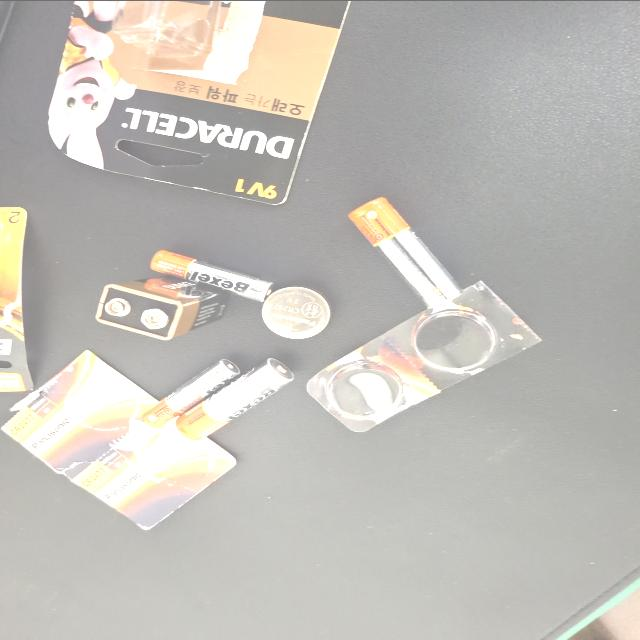9V: (368, 468, 452, 568)
AA: (263, 294, 407, 378), (476, 419, 585, 508)
AAA: (478, 460, 568, 532), (332, 436, 402, 528)
COIN: (382, 392, 449, 443)
